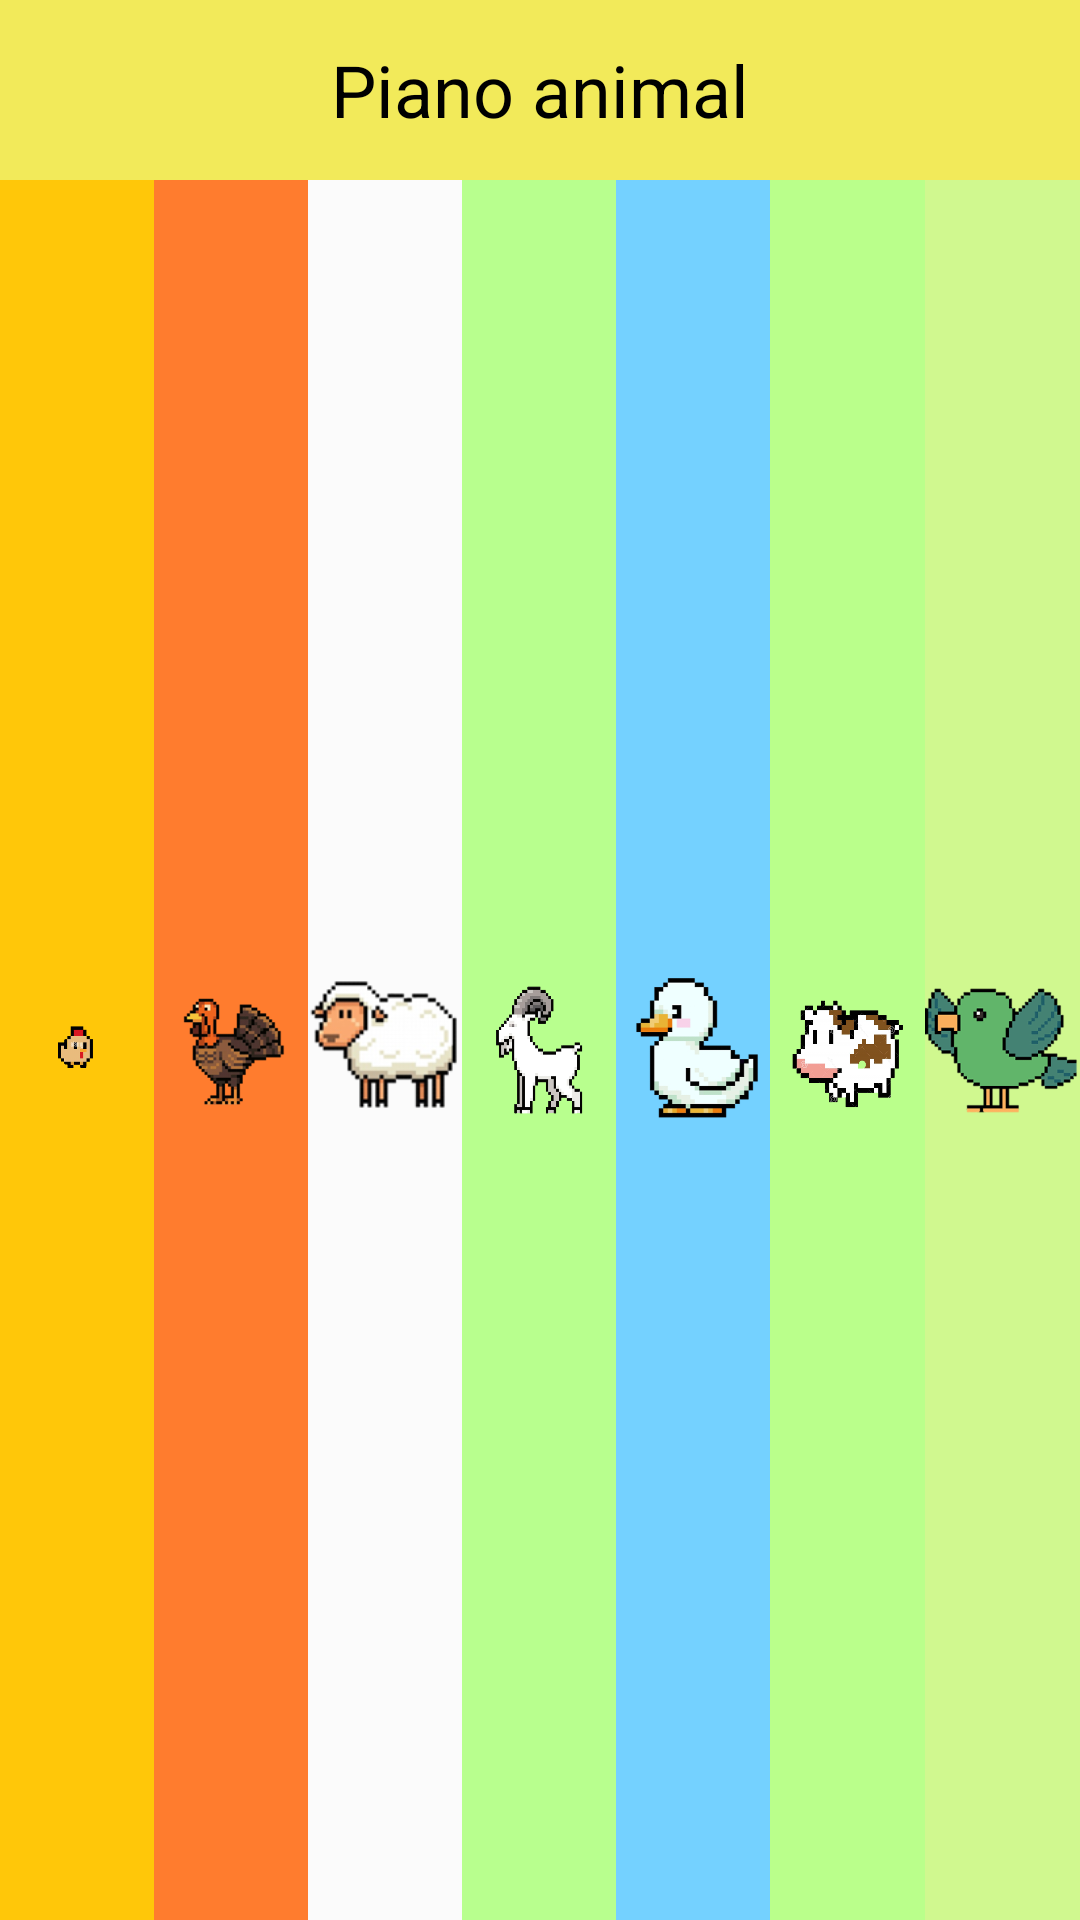

Point at icon controls on the screen. Image size 1080 × 1920, points as [x,y].
pajaro: [1001,1050]
